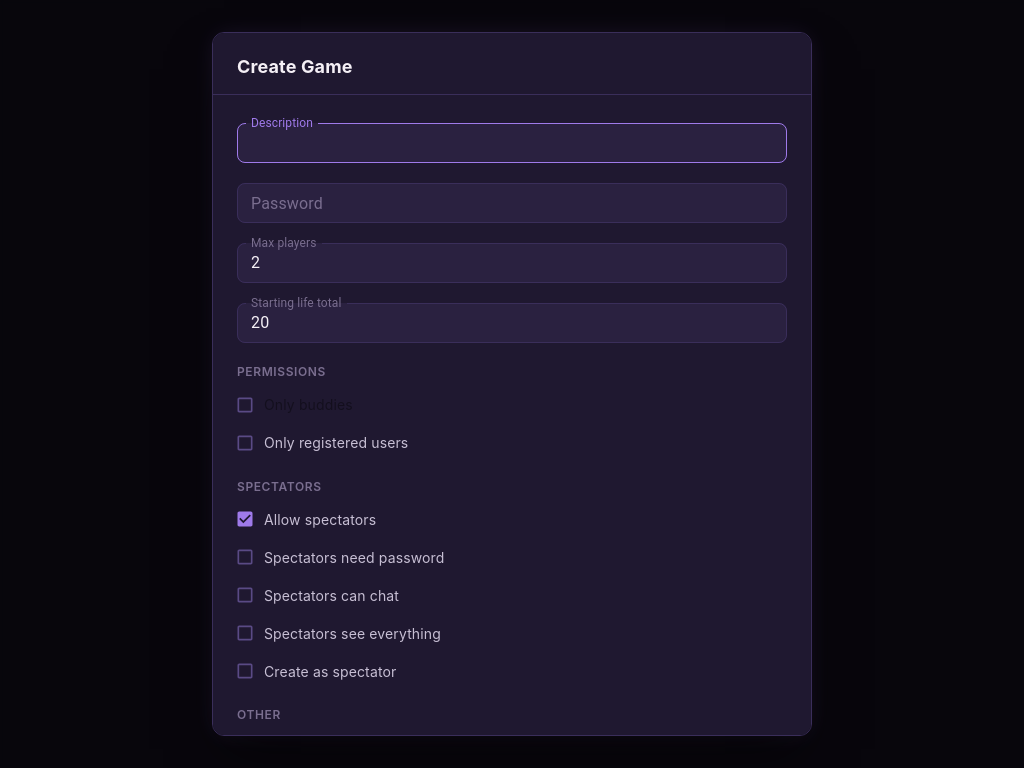
Test case: CreateGameDialog › disables spectator sub-options when "Allow spectators" is unchecked
Click the checkbox labelled "Allow spectators": (306, 520) [235,510,376,530]
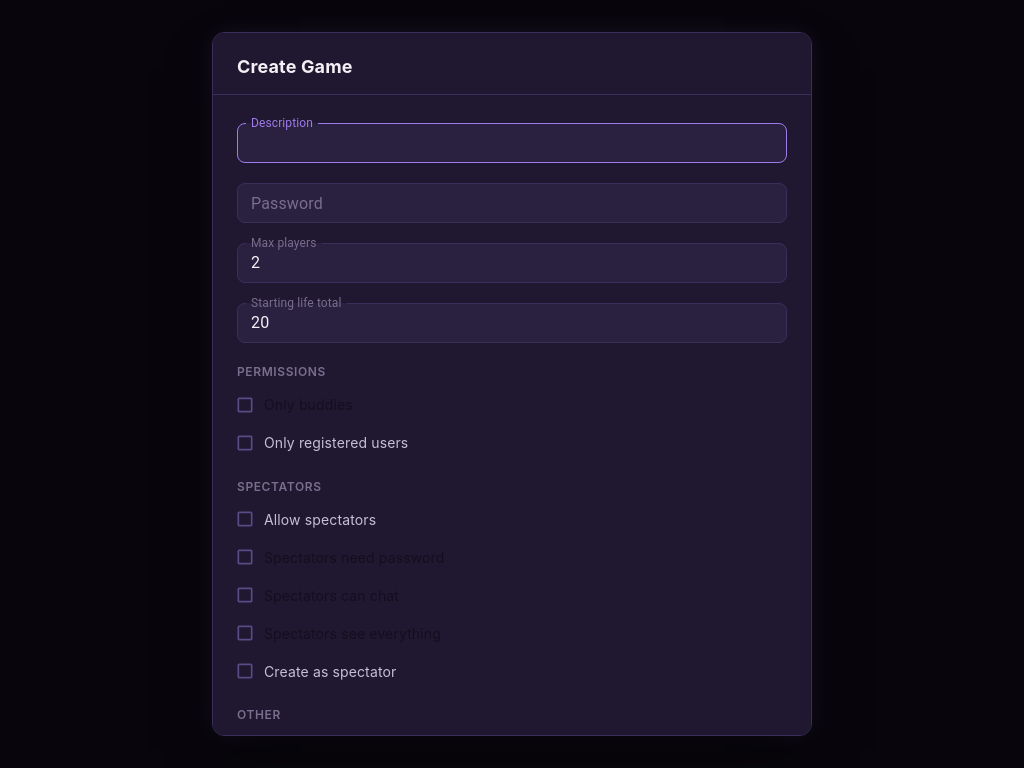
expect the checkbox labelled "Spectators need password" is disabled: met, box [235,548,444,568]
expect the checkbox labelled "Spectators can chat" is disabled: met, box [235,586,399,606]
expect the checkbox labelled "Spectators see everything" is disabled: met, box [235,624,441,644]
